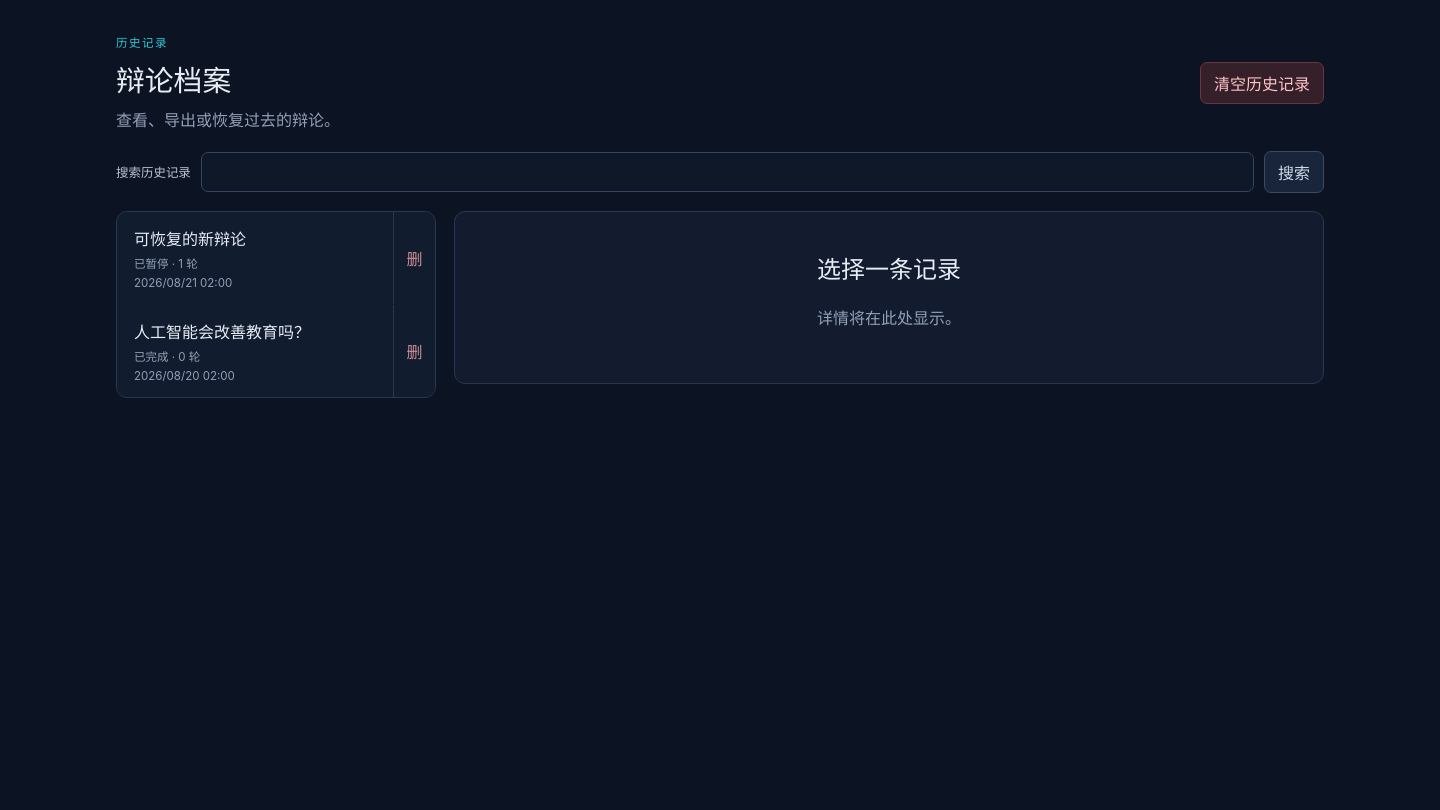
history page › unlocks and preserves selection after recovery rejects
Click the button with aria-label "查看可恢复的新辩论": (190, 239) [117, 212, 393, 304]
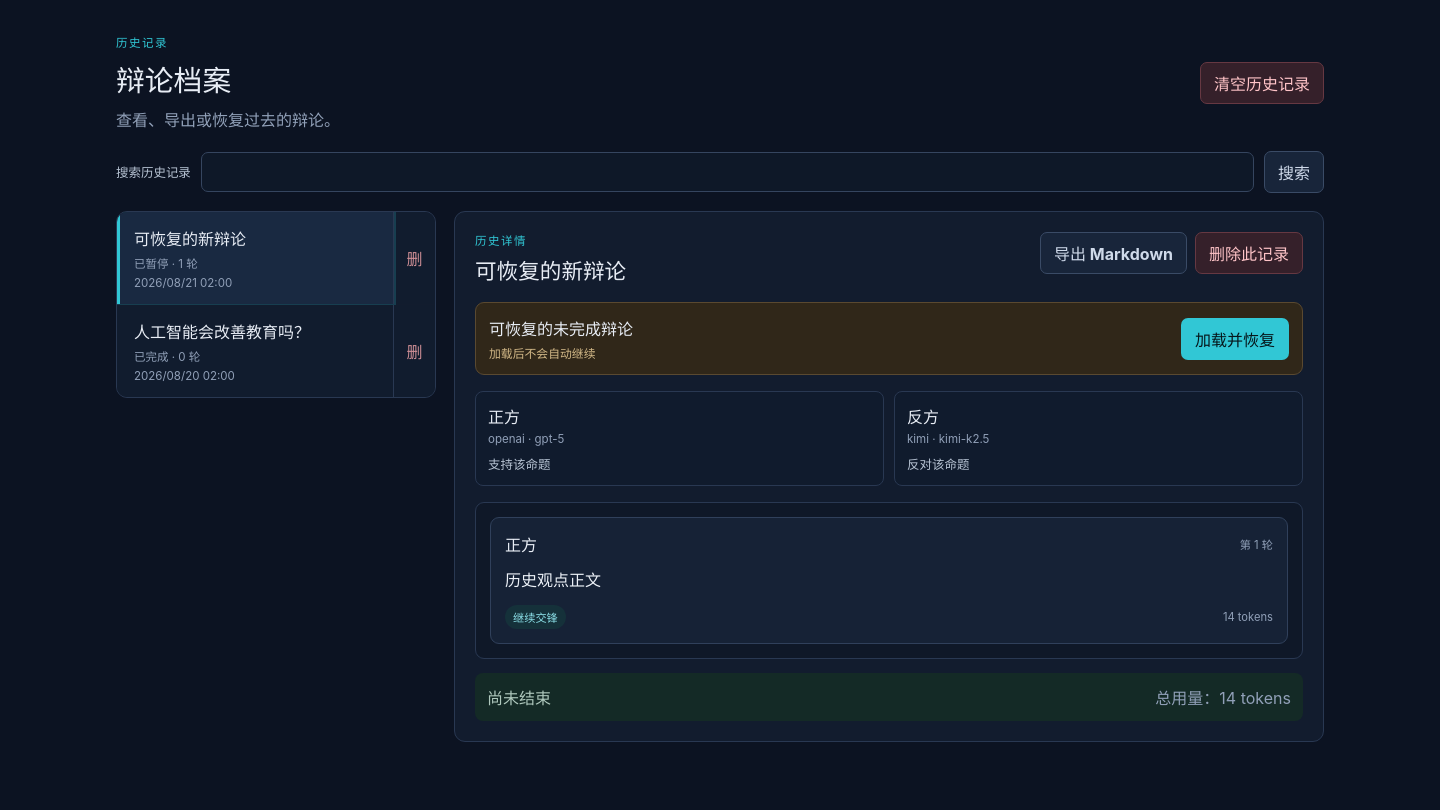
Result: the heading "可恢复的新辩论" is shown at [475, 256, 626, 286]
Click the button "加载并恢复": (1235, 339) [1181, 318, 1289, 360]
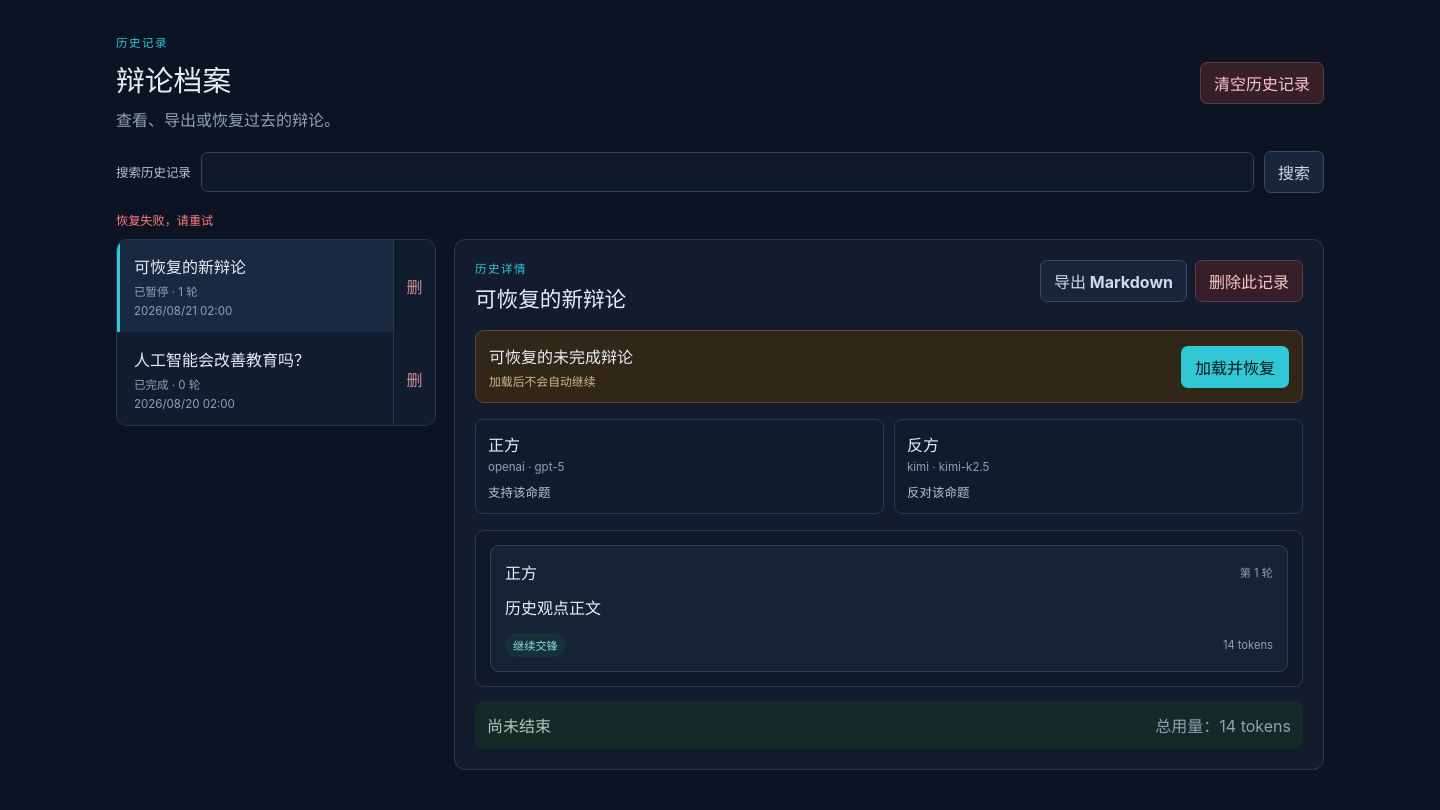
Result: the heading "可恢复的新辩论" is shown at [475, 284, 626, 314]
Result: the message shows "恢复失败" at [116, 213, 213, 228]
Click the button with aria-label "查看人工智能会改善教育吗": (222, 360) [117, 333, 393, 425]
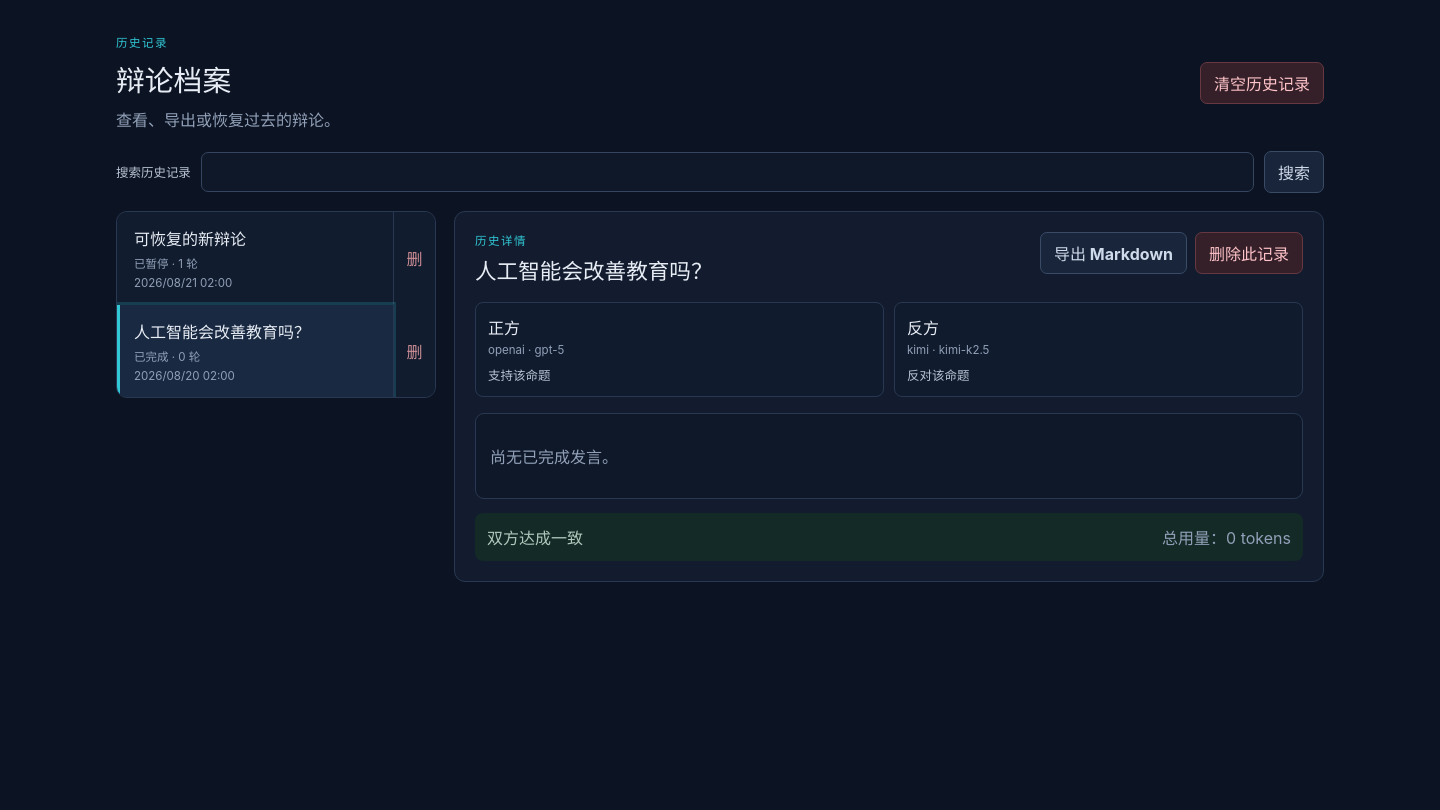
Result: the heading "人工智能会改善教育吗？" is shown at [475, 256, 712, 286]
